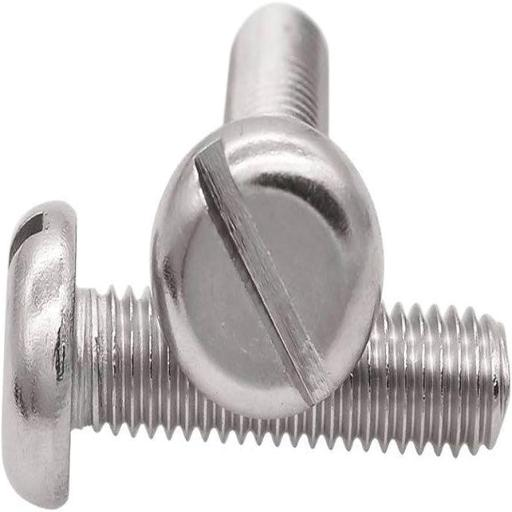Slotted: (149, 126, 383, 420)
